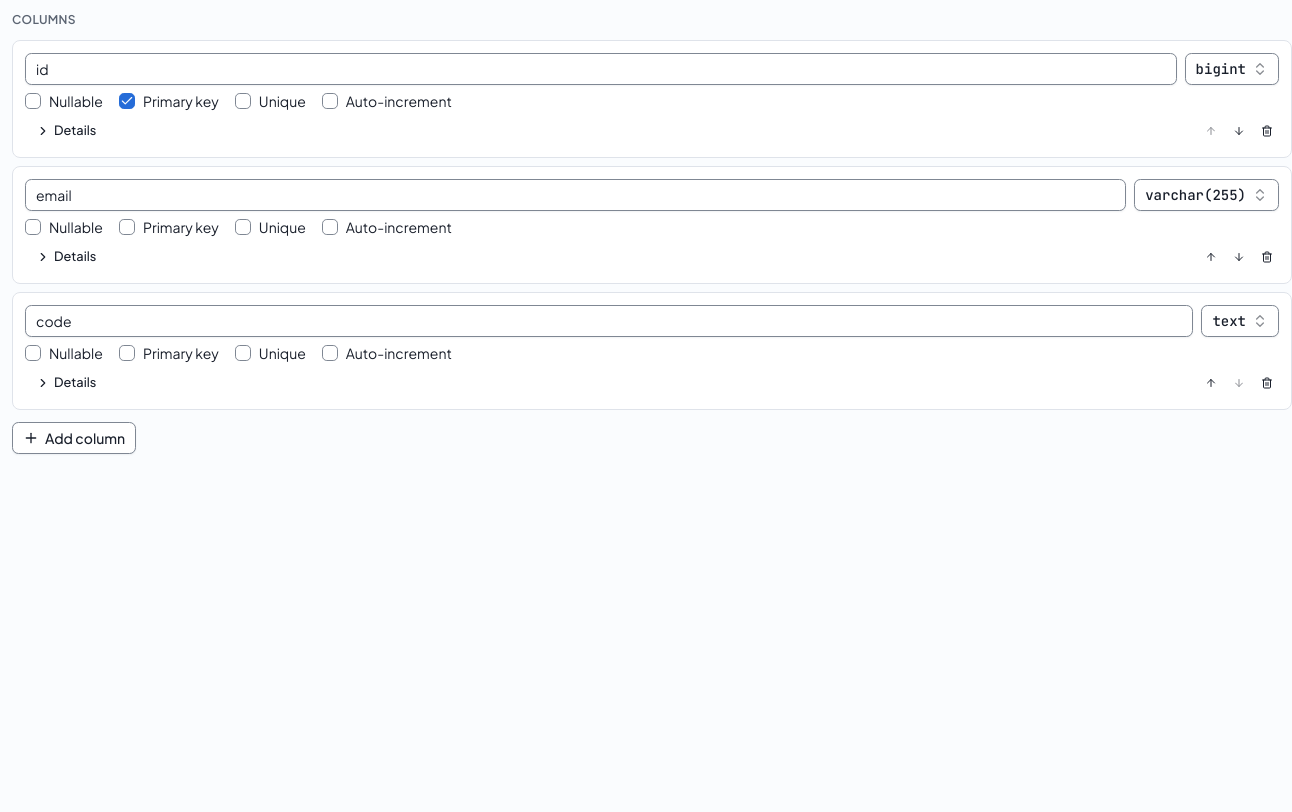
it: ColumnList › points the details toggle at the details region
Click the 2nd button "Details" at point(66, 257), box 25,243 -> 107,271
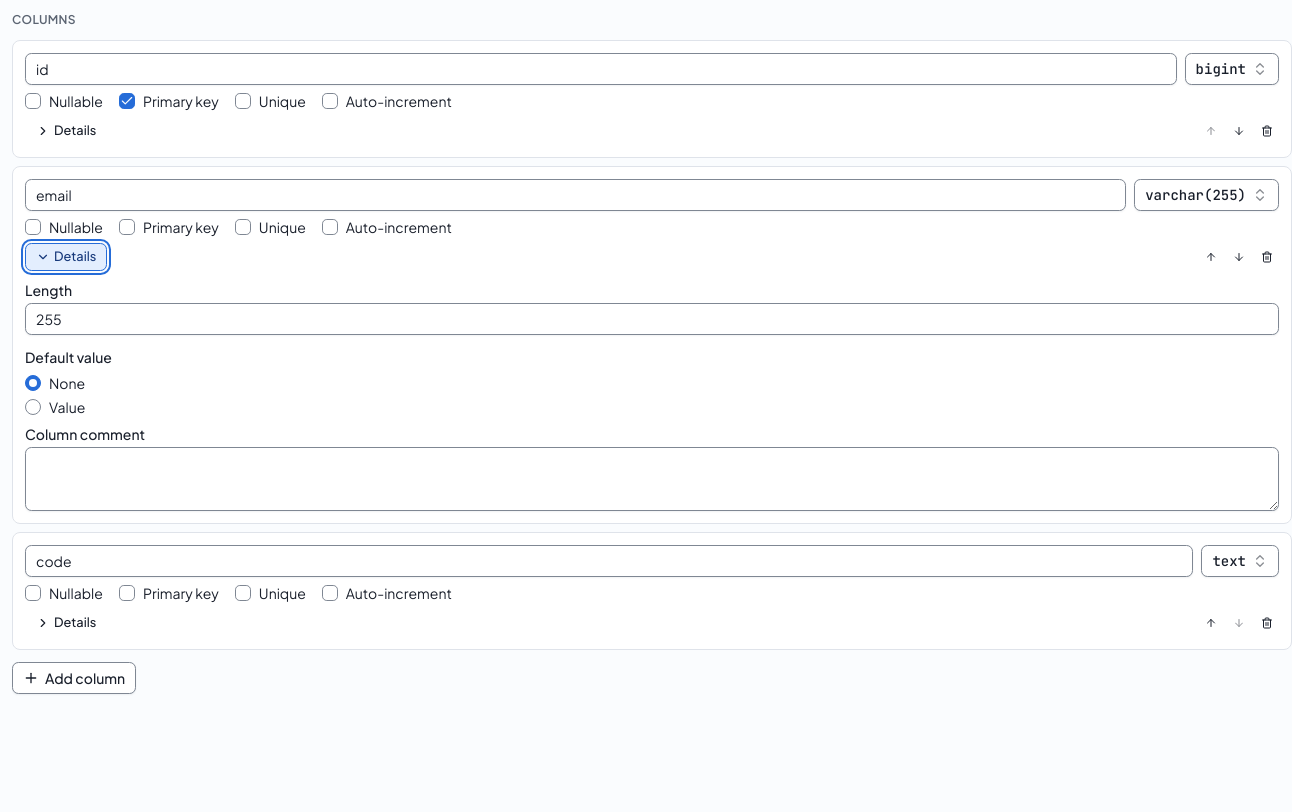
Now the 2nd button "Details" is expanded, box 25,243 -> 107,271
Now the field labelled "Length" is shown, box 25,303 -> 1279,335
